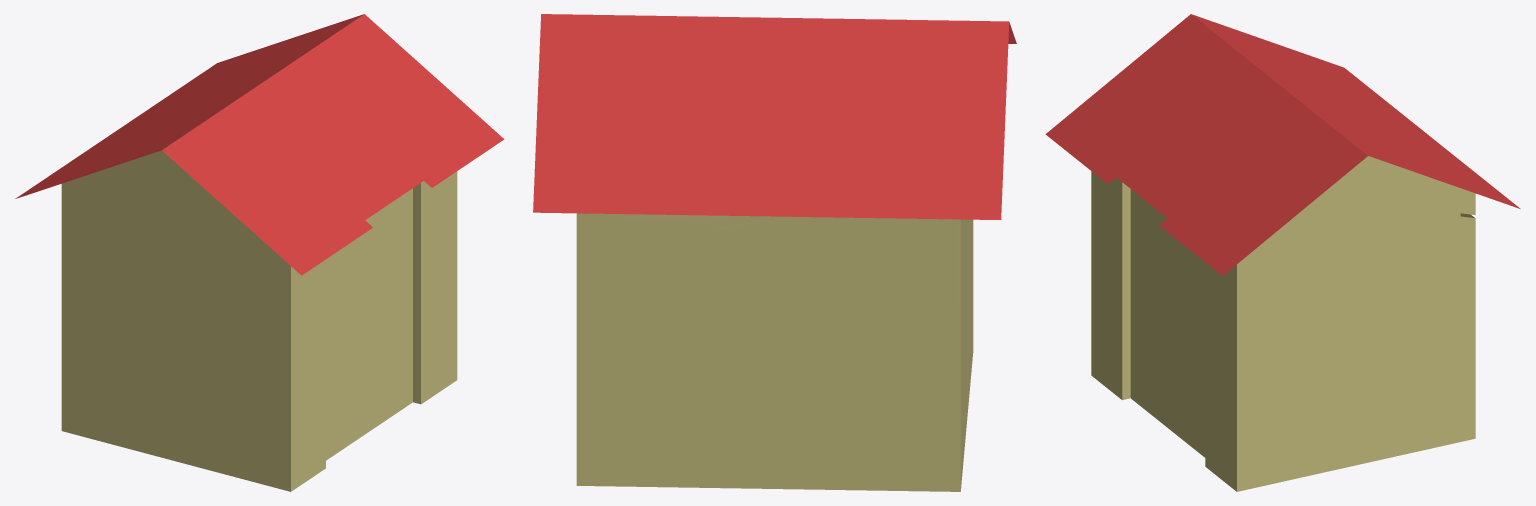
The picture shows the model from 3 angles, left to right: view 1: azimuth 30°, elevation 25°; view 2: azimuth 150°, elevation 25°; view 3: azimuth 270°, elevation 25°; orthographic projection. The views are drawn at different scales.
Size of the model in its own units: 14.49 by 13.98 by 10.46.
